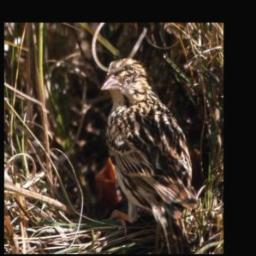Sparrow: (98, 57, 199, 253)
